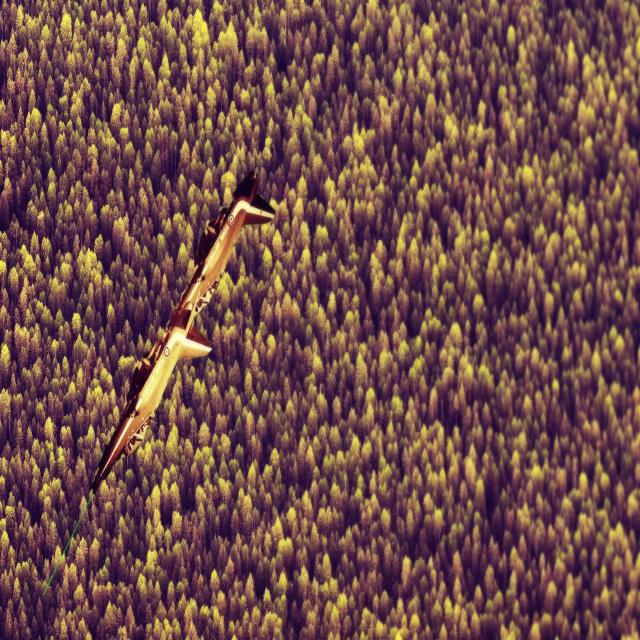airplane: (90, 168, 275, 494)
